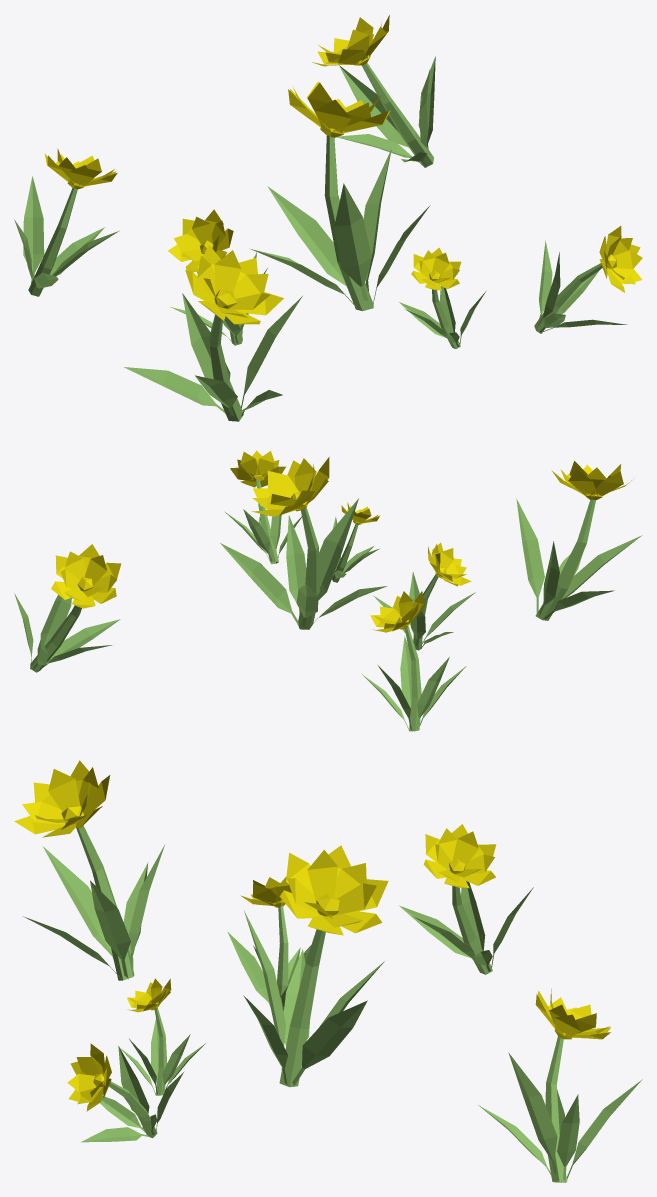
The model's file is FlowerYellow01.fbx.
3 views of the same model, one above another, from view 1: azimuth 30°, elevation 25°; view 2: azimuth 150°, elevation 25°; view 3: azimuth 270°, elevation 25° (orthographic). The views are drawn at different scales.
Visible parts, largest first — view 1: Circle.518; view 2: Circle.518; view 3: Circle.518.
Boxes of the visible parts, box(x1,y1,x2,y2) form: Circle.518: box(14, 15, 642, 421); Circle.518: box(14, 450, 642, 731); Circle.518: box(14, 760, 642, 1182).
Bounding box in the file's own units: 89.65 × 36.43 × 92.28.
